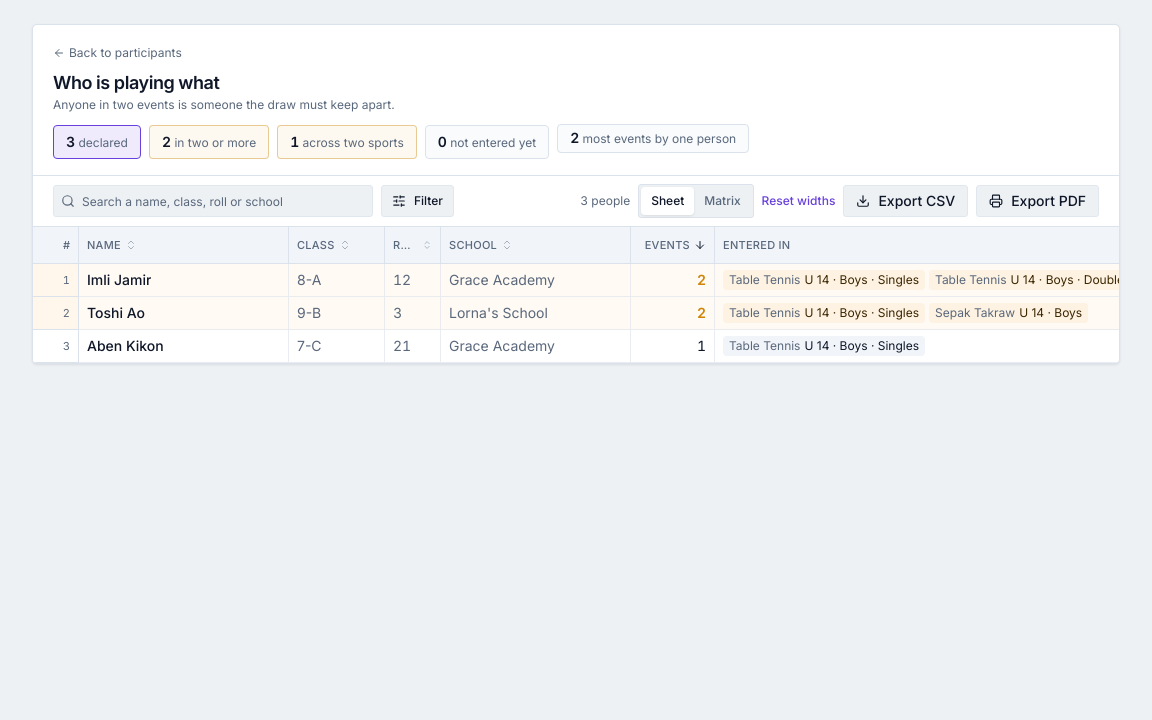
Test case: opens one Filter button, picks a value, and counts what it left
This screenshot has width=1152, height=720.
Expected: the row with test id "participation-m1" is shown, [33,264,1119,297]
Click the button with test id "participation-open-filters": x=418, y=201 [381,185,454,217]
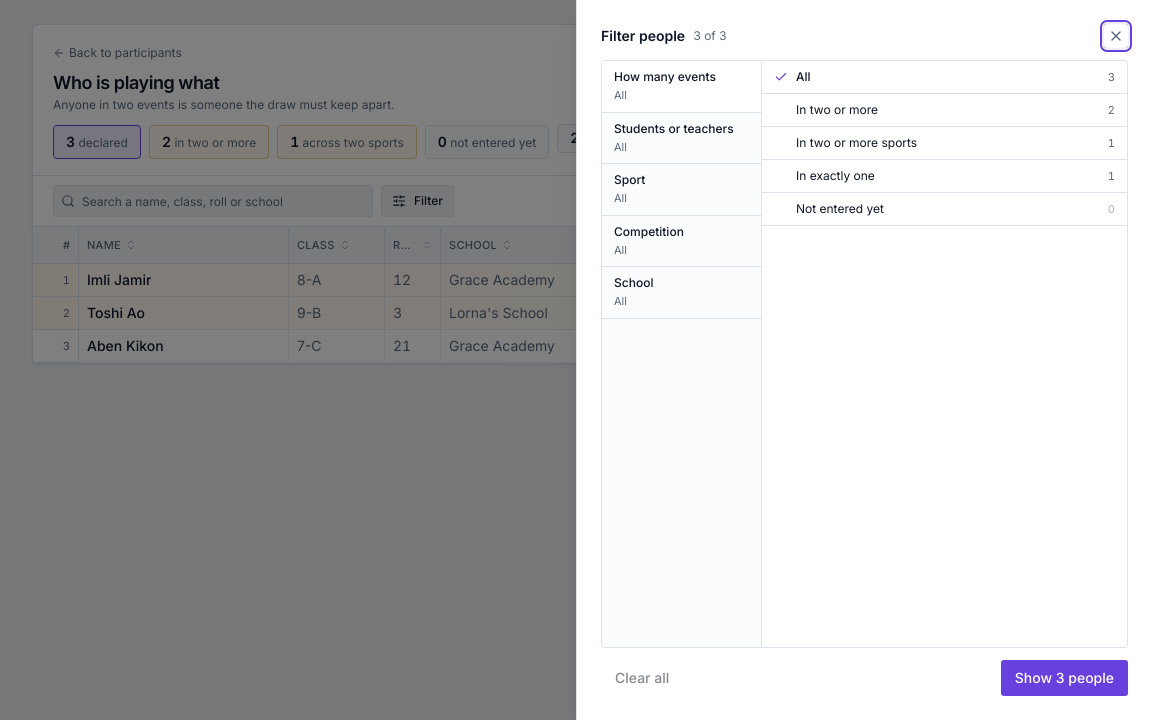
Expected: the button with test id "participation-pane-school" is shown, [602,267,761,318]
Click the button with test id "participation-pane-events": x=682, y=87 [602,61,761,112]
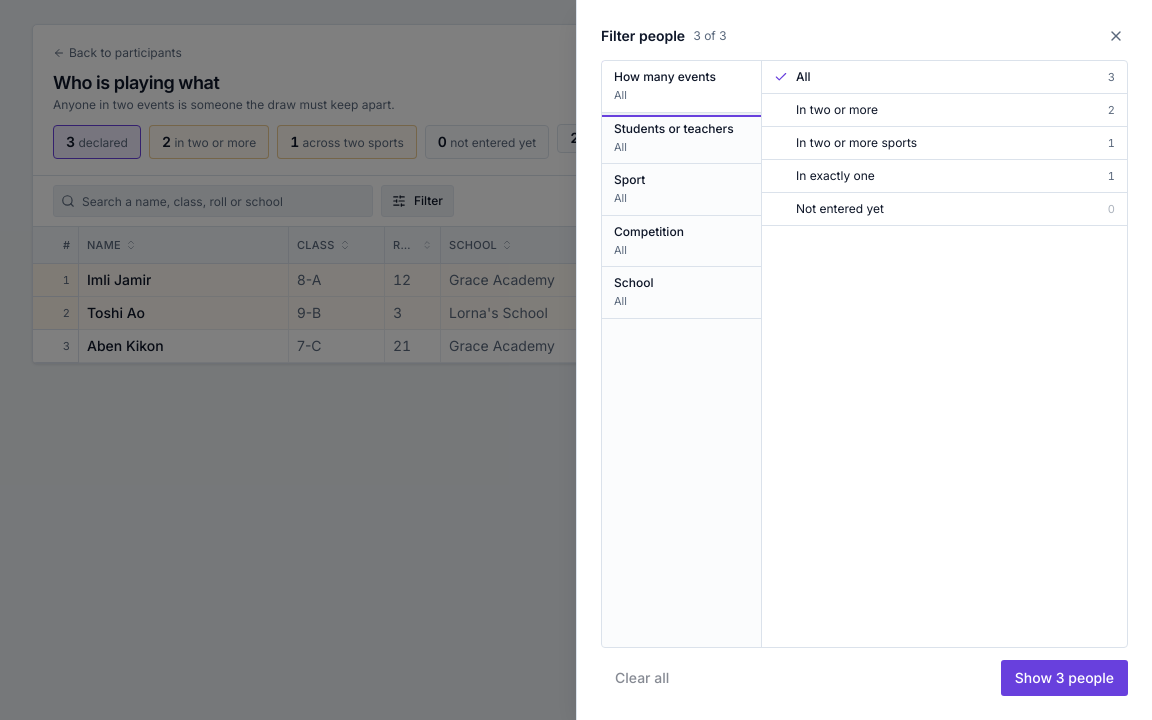
Expected: the button with test id "participation-value-multi" shows "2"
Click the button with test id "participation-value-multi": x=837, y=110 [762,94,1127,127]
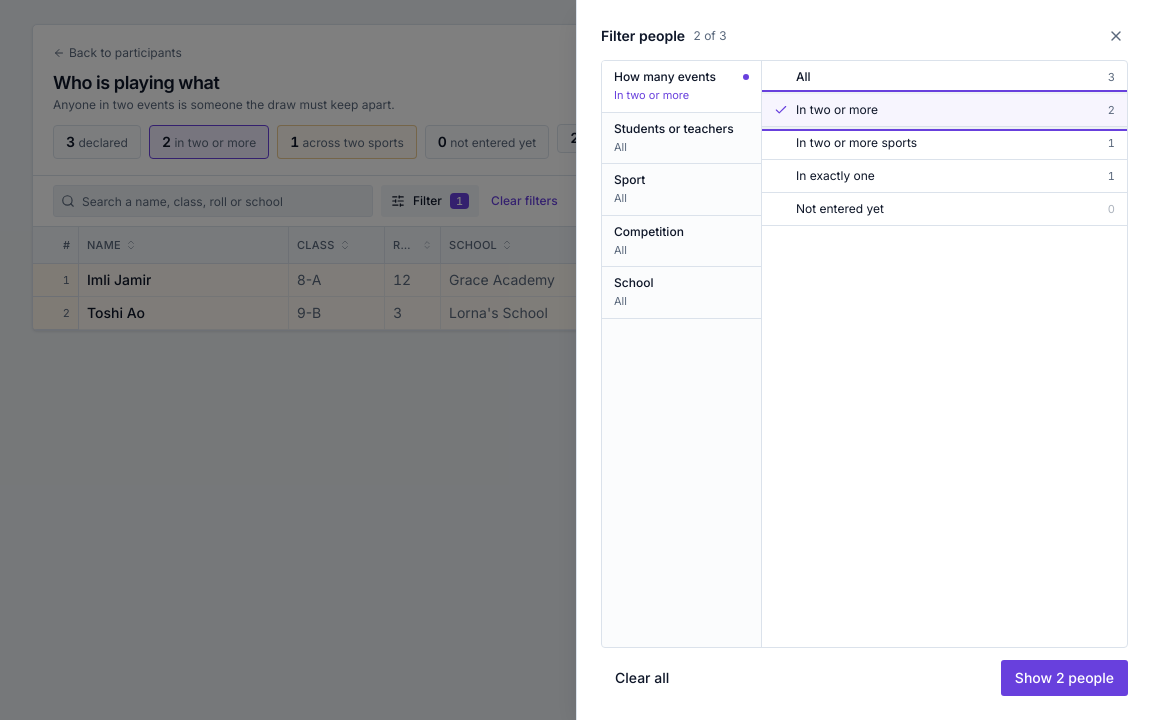
Expected: the row with test id "participation-m3" is gone
Expected: the button with test id "participation-open-filters" shows "1", [381,185,479,217]
